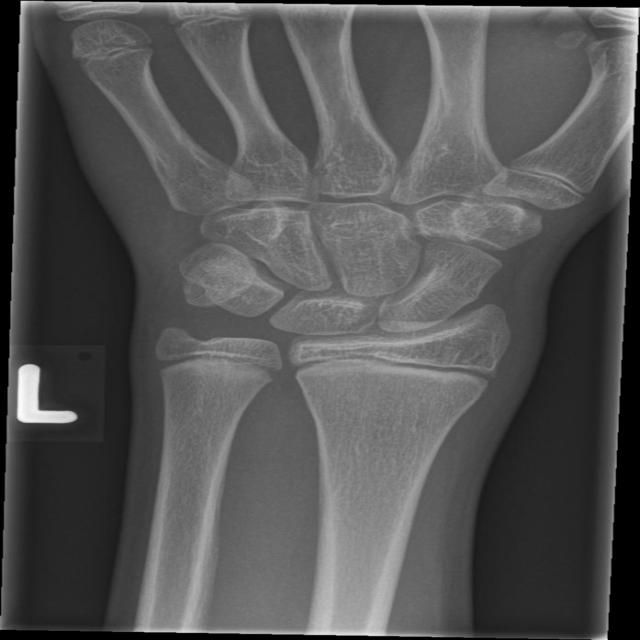fracture: (273, 342, 521, 397), (147, 344, 294, 386)
